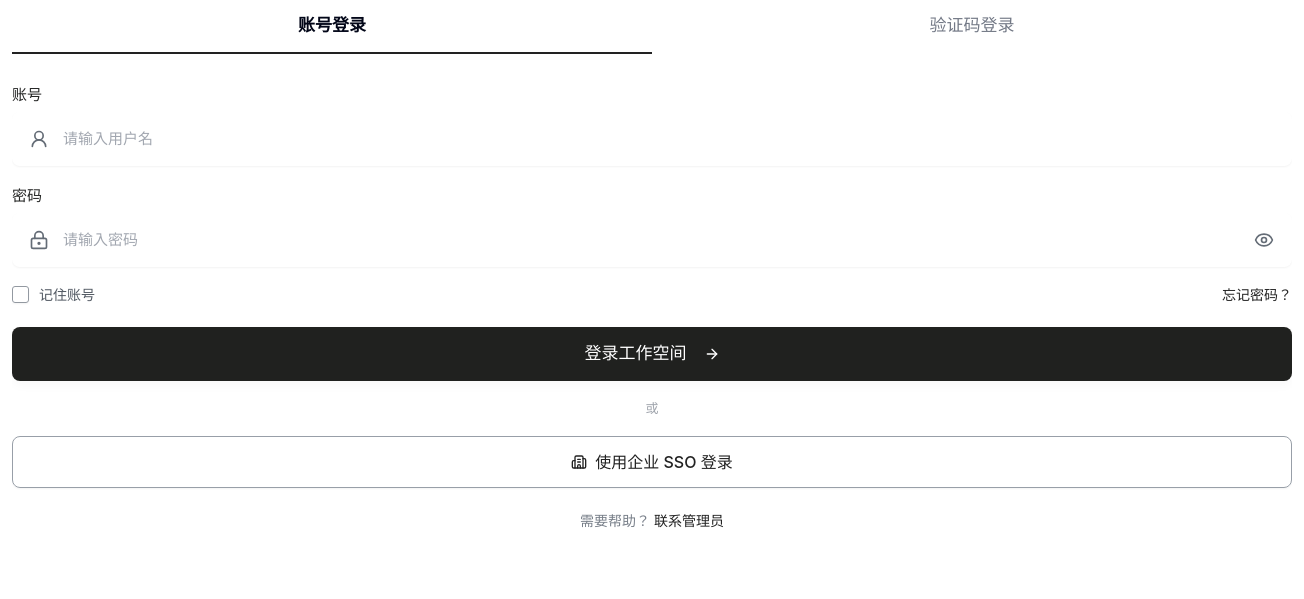
it: UserAuthForm › Rendering without redirectTo › shows validation messages when submitting empty form
Click the button "登录工作空间": (652, 354) [12,326,1292,380]
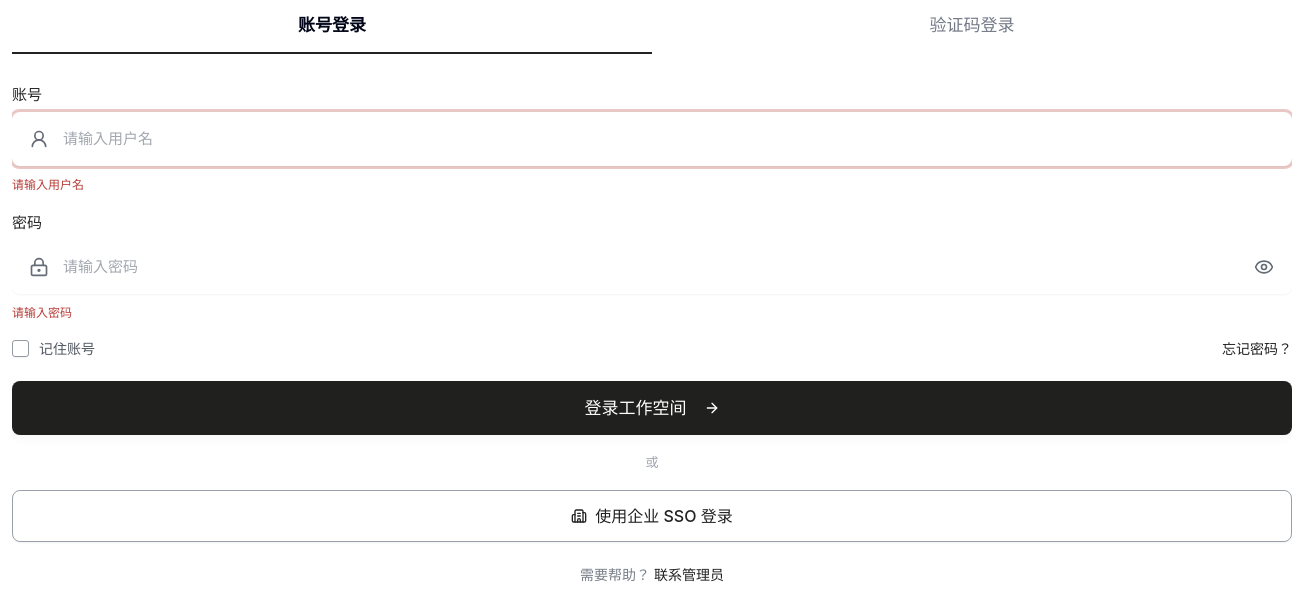
Check: the text "请输入用户名" is shown, box [12,176,84,192]
Check: the text "请输入密码" is shown, box [12,305,72,320]
